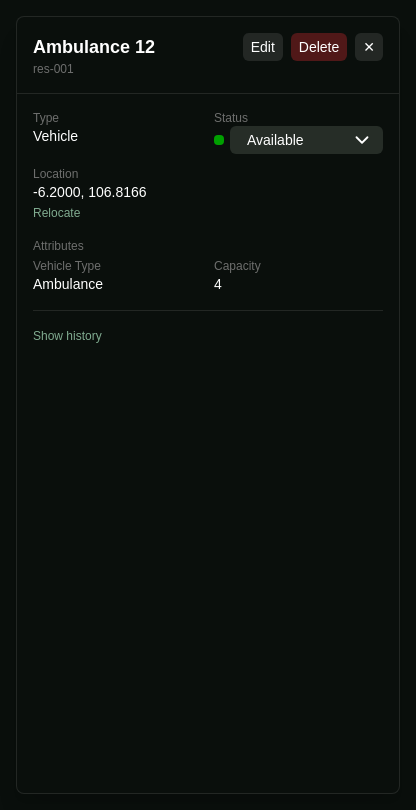
ResourceDetail › toggles the history section open and closed
Expected: the text "No status changes yet." is not shown
Click the button "Show history".
click(67, 336)  # box [33, 328, 102, 344]
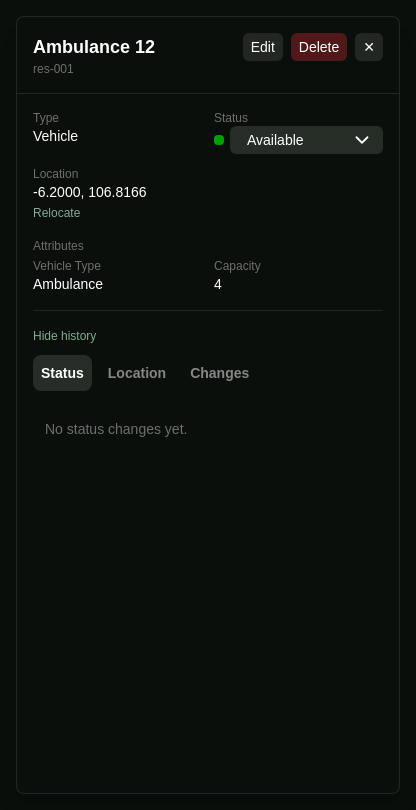
Expected: the text "No status changes yet." is shown, [45, 421, 187, 437]
Click the button "Hide history".
click(65, 336)  # box [33, 328, 96, 344]
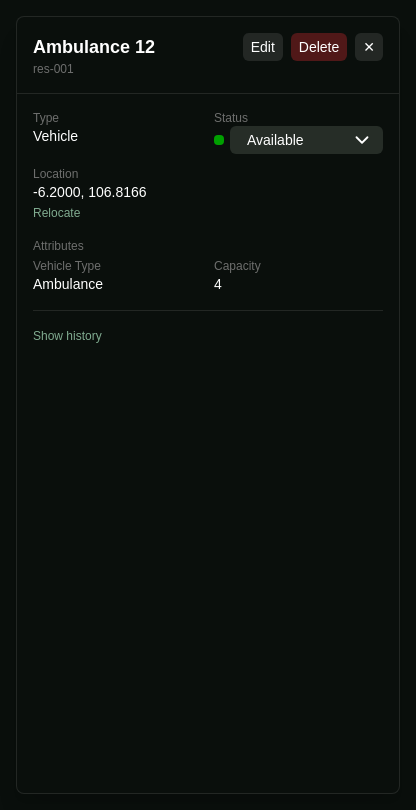
Expected: the text "No status changes yet." is gone
